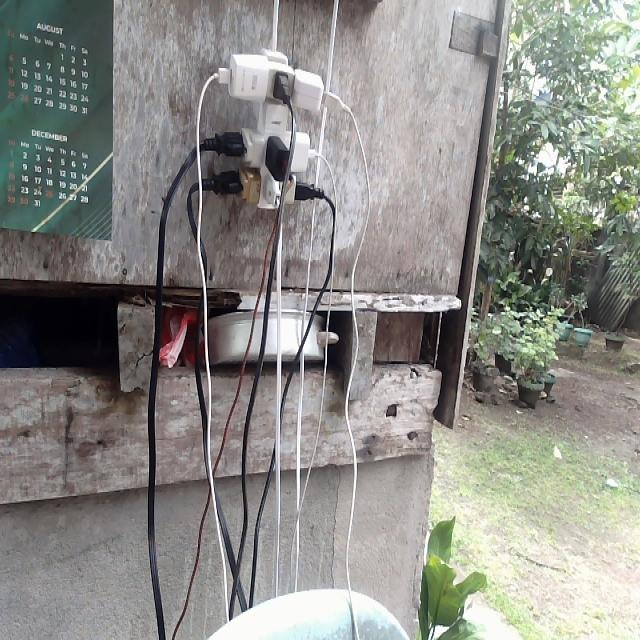-: (202, 46, 329, 210)
